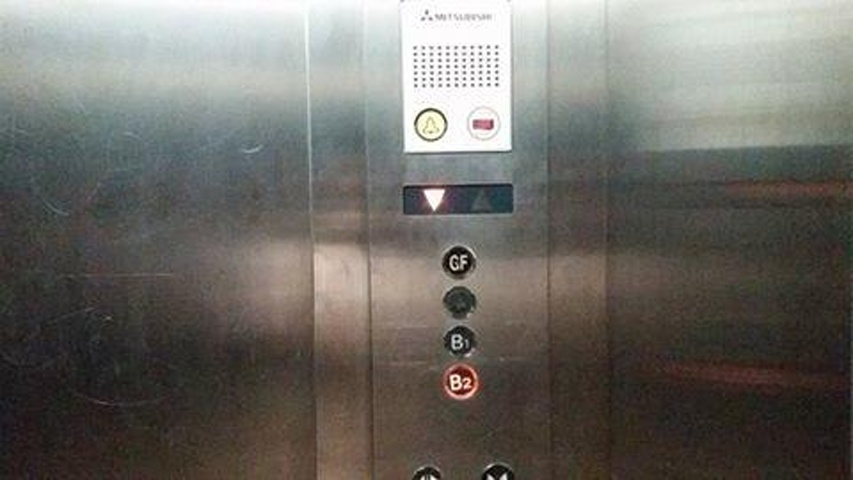B1: (441, 322, 481, 360)
B2: (437, 359, 483, 405)
GF: (438, 243, 478, 283)
alarm: (410, 105, 452, 145)
blur: (440, 284, 479, 322)
led: (402, 184, 515, 216)
unknown: (465, 103, 504, 143)
